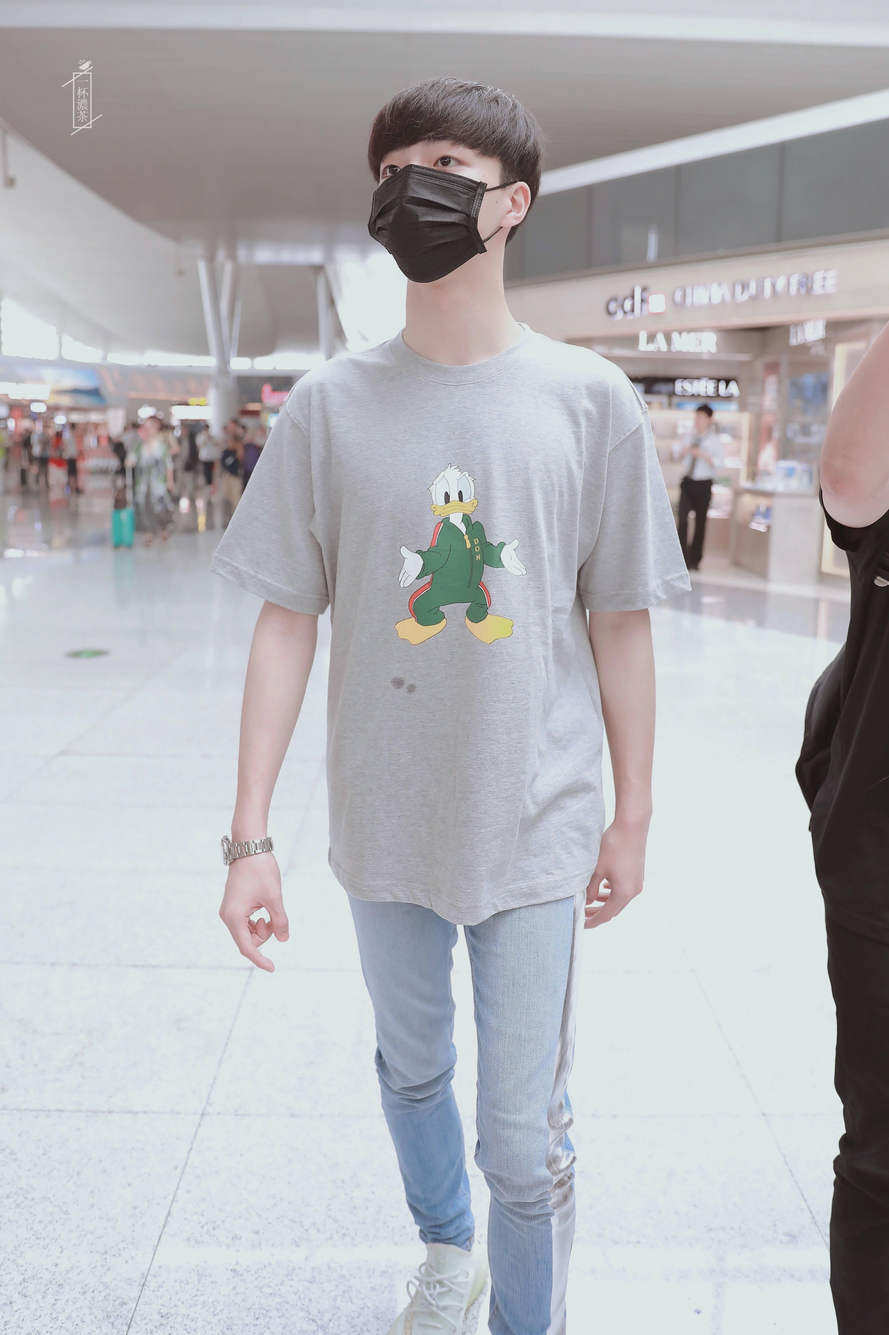NONE: (695, 411, 710, 430)
OK: (373, 129, 498, 276)
